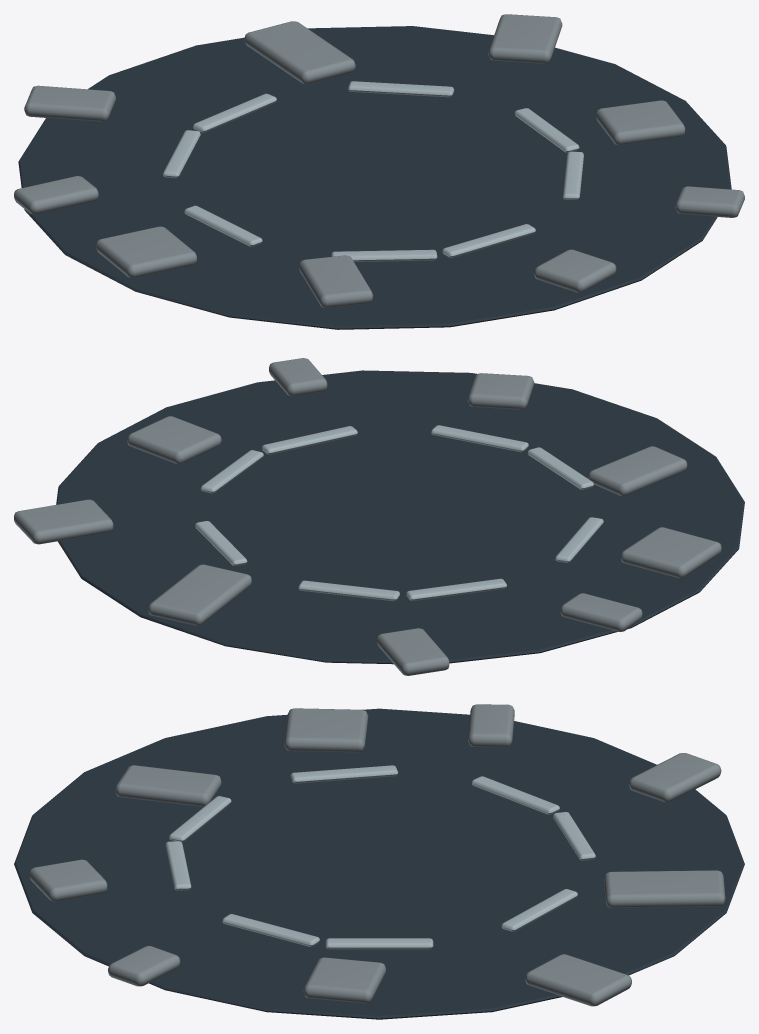
File: 27_blast_crater.glb
The picture shows the model from 3 angles, top to bottom: view 1: azimuth 30°, elevation 25°; view 2: azimuth 150°, elevation 25°; view 3: azimuth 270°, elevation 25°; orthographic projection. The views are drawn at different scales.
Parts seen in each view (by area): view 1: Scorched basin, Shattered impact rim, Impact splinter; view 2: Scorched basin, Shattered impact rim, Impact splinter; view 3: Scorched basin, Shattered impact rim, Impact splinter.
Boxes of the visible parts, x1=… form: Scorched basin: x1=18, y1=26, x2=731, y2=329; Shattered impact rim: x1=14, y1=14, x2=744, y2=307; Impact splinter: x1=163, y1=81, x2=583, y2=261; Scorched basin: x1=56, y1=370, x2=744, y2=664; Shattered impact rim: x1=14, y1=358, x2=721, y2=675; Impact splinter: x1=195, y1=425, x2=603, y2=601; Scorched basin: x1=14, y1=708, x2=744, y2=1019; Shattered impact rim: x1=29, y1=704, x2=725, y2=1006; Impact splinter: x1=165, y1=765, x2=595, y2=949.
Size of the model in its own units: 2.1 by 0.0505 by 2.1.
